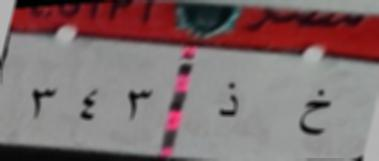3: (29, 83, 58, 125), (125, 85, 154, 123)
4: (76, 84, 101, 124)
khaa: (292, 81, 332, 143)
zaal: (216, 78, 244, 121)
